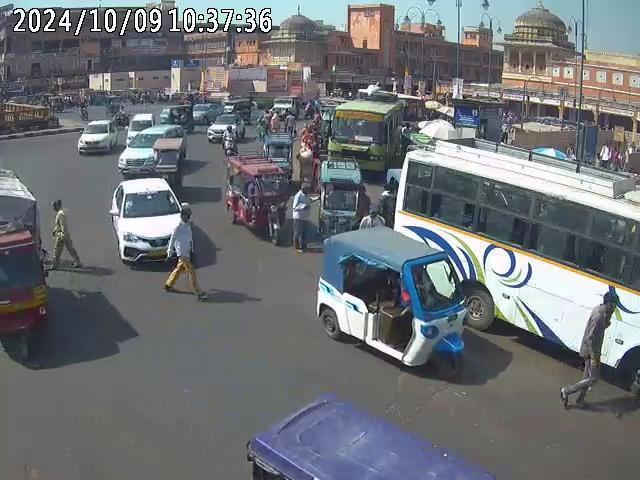auto: (313, 225, 470, 375), (223, 154, 291, 241), (318, 155, 361, 235), (152, 137, 188, 189)
bus: (386, 143, 639, 390), (325, 97, 404, 177)
car: (109, 176, 186, 268), (116, 124, 184, 176), (76, 120, 116, 155), (206, 111, 246, 144)
person: (558, 290, 620, 410), (163, 204, 203, 300), (50, 198, 78, 270), (291, 184, 313, 253)
